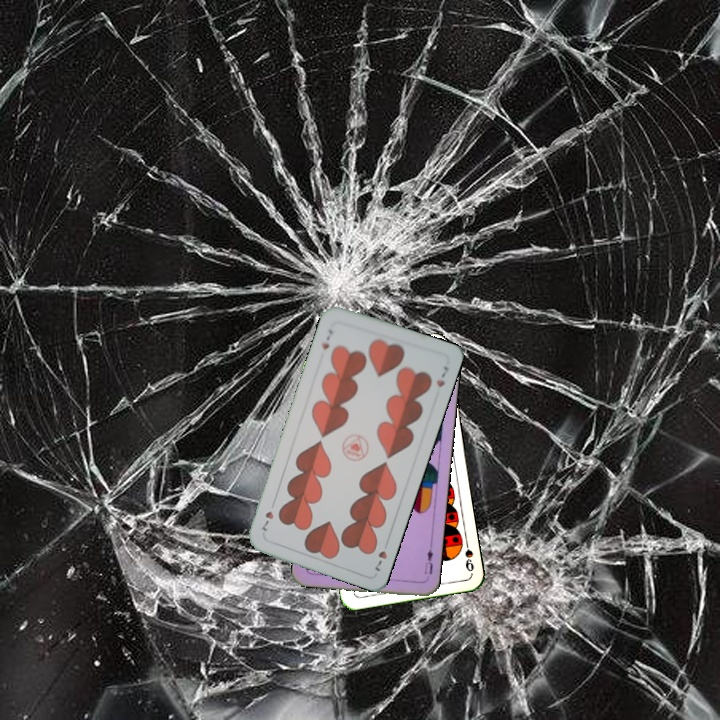EU: (420, 545, 436, 577)
H7: (370, 536, 391, 574), (317, 325, 336, 352)
S9: (461, 534, 476, 574)
